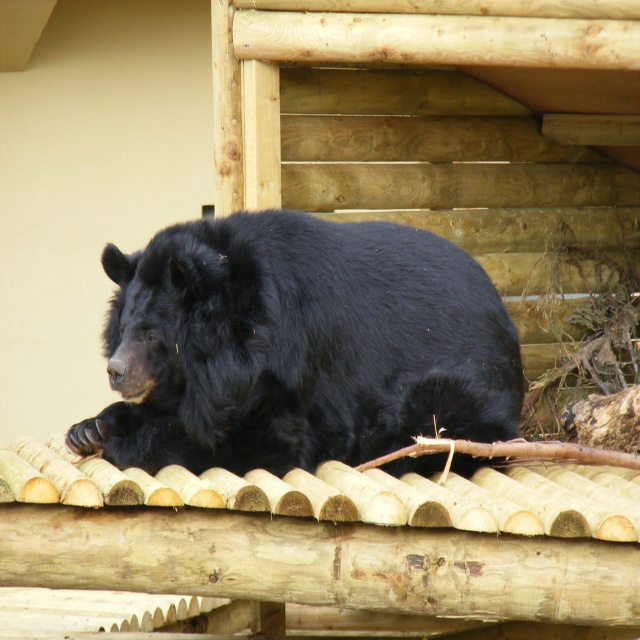Bear: (62, 205, 528, 479)
